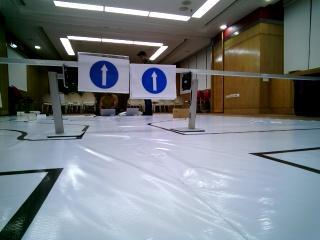straight: (82, 53, 131, 92), (133, 62, 175, 101)
